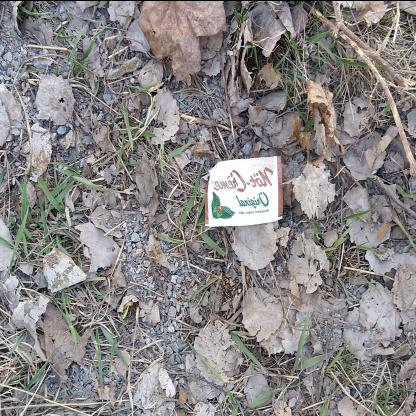kagit: (204, 152, 284, 226)
